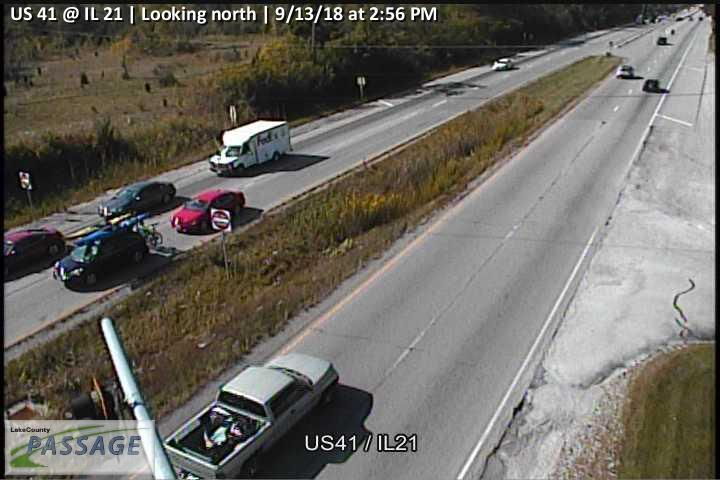SUV: (51, 223, 148, 292)
Sedan: (1, 224, 66, 281), (170, 187, 245, 235), (96, 181, 176, 221), (492, 57, 512, 70)
Truck: (160, 352, 340, 480), (217, 120, 292, 179)
